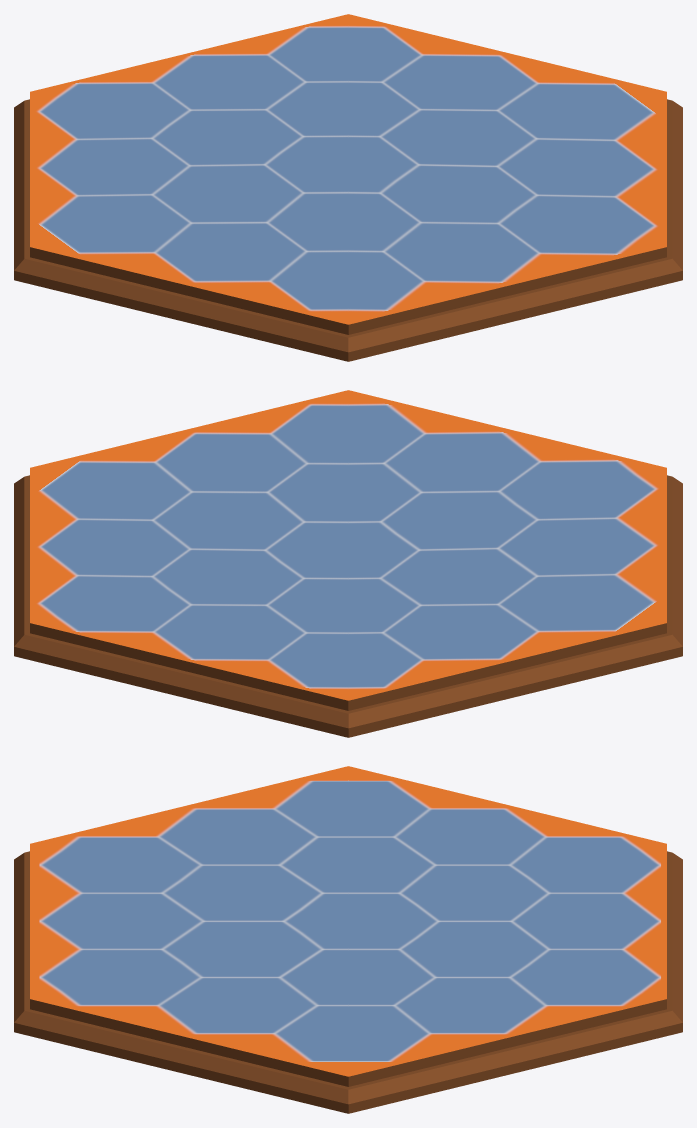
The model's file is Spielfeld.fbx.
3 renders of one model, top to bottom at view 1: azimuth 30°, elevation 25°; view 2: azimuth 150°, elevation 25°; view 3: azimuth 270°, elevation 25°, orthographic.
Visible parts, largest first — view 1: pCylinder1; view 2: pCylinder1; view 3: pCylinder1.
Boxes of the visible parts, bbox=[...] form: pCylinder1: bbox=[14, 14, 682, 361]; pCylinder1: bbox=[14, 390, 682, 737]; pCylinder1: bbox=[14, 766, 682, 1113].
Bounding box in the file's own units: 38.27 × 1.6 × 33.14.
